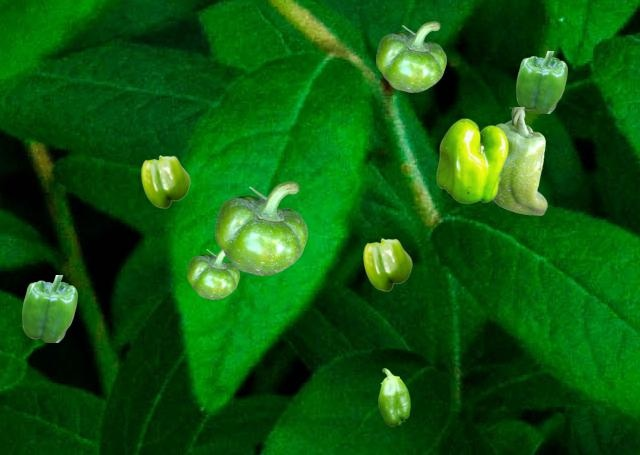bell_pepper: (215, 181, 306, 274), (436, 118, 507, 202), (493, 107, 546, 214), (376, 21, 445, 91), (22, 275, 76, 341), (516, 51, 566, 112), (187, 249, 238, 298), (141, 155, 189, 207), (363, 238, 411, 290), (378, 368, 409, 425)
